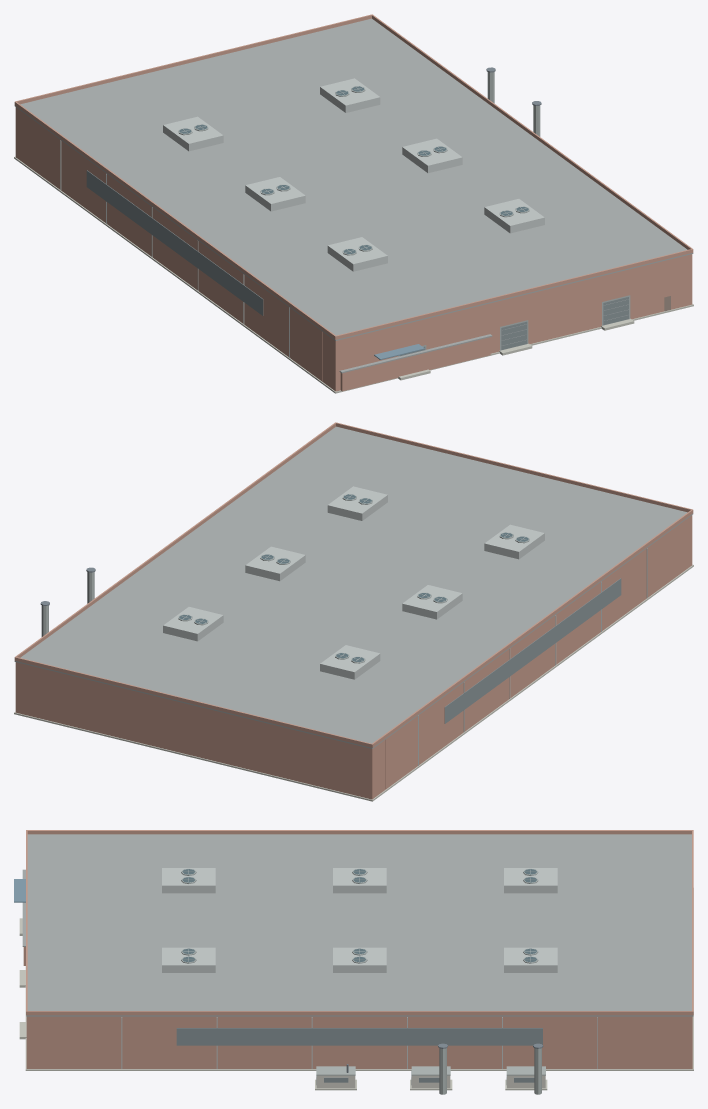
The model's file is dc-brick-retrofit.glb.
The picture shows the model from 3 angles, top to bottom: view 1: azimuth 30°, elevation 25°; view 2: azimuth 150°, elevation 25°; view 3: azimuth 270°, elevation 25°; orthographic projection. The views are drawn at different scales.
Parts seen in each view (by area): view 1: dc-brick-retrofit; view 2: dc-brick-retrofit; view 3: dc-brick-retrofit.
Part boxes in pixels (x1=…): dc-brick-retrofit: x1=14, y1=14, x2=693, y2=393; dc-brick-retrofit: x1=14, y1=422, x2=693, y2=801; dc-brick-retrofit: x1=14, y1=830, x2=693, y2=1094.
Bounding box in the file's own units: 82.05 × 11.99 × 114.
